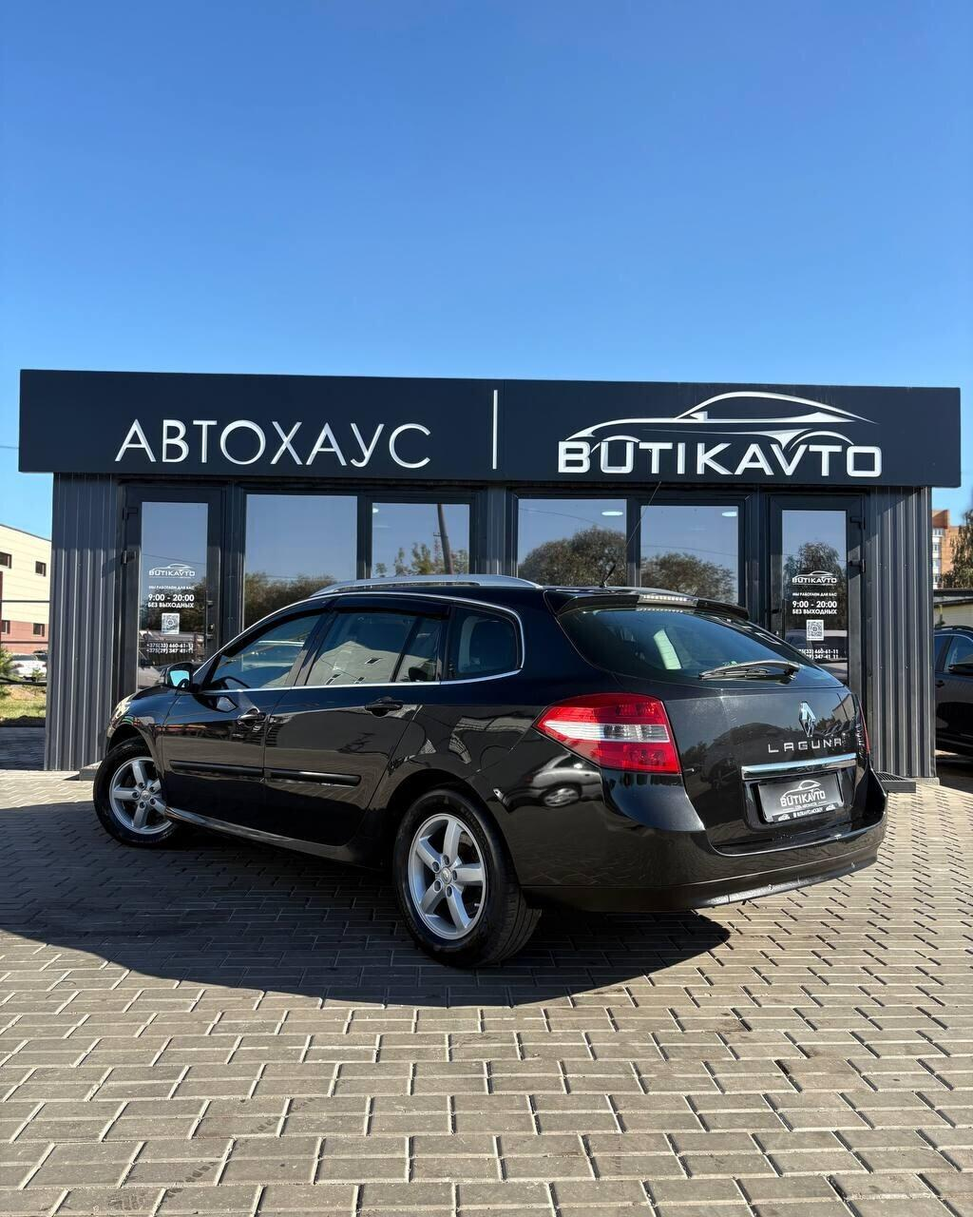Laguna_2007-2011: (95, 574, 886, 967)
